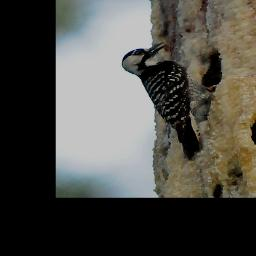Woodpecker: (119, 42, 215, 161)
